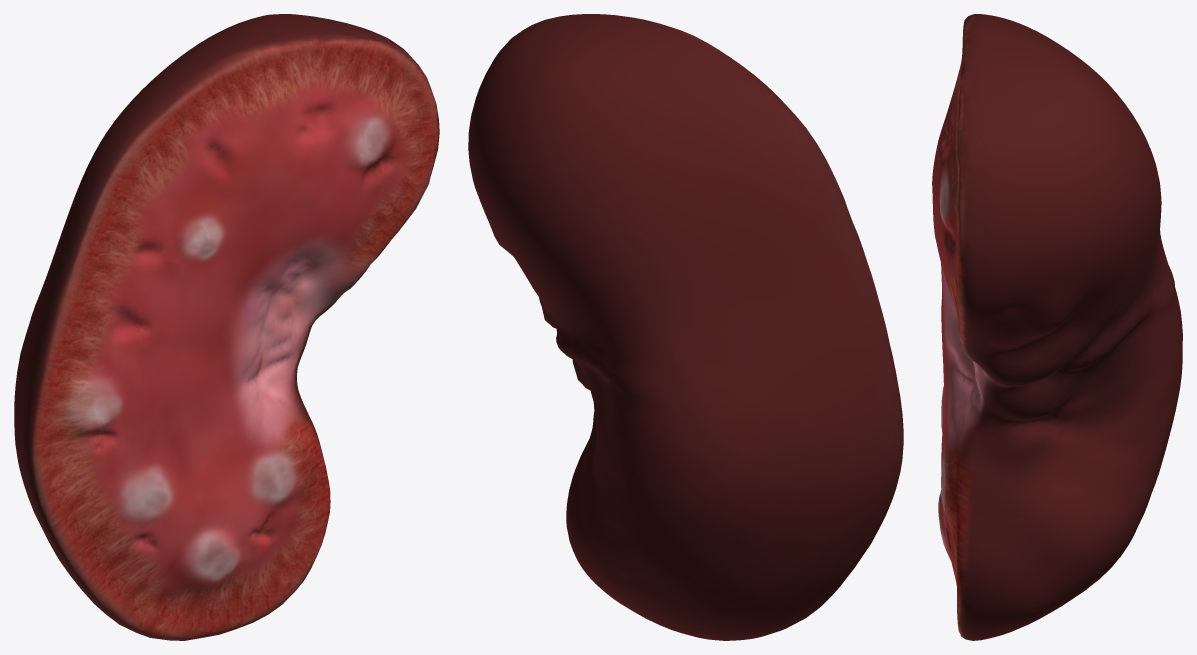
File: 9_mass.glb
The picture shows the model from 3 angles, left to right: view 1: azimuth 30°, elevation 25°; view 2: azimuth 150°, elevation 25°; view 3: azimuth 270°, elevation 25°; orthographic projection. The views are drawn at different scales.
Parts seen in each view (by area): view 1: mass; view 2: mass; view 3: mass.
Boxes of the visible parts, bbox=[...] form: mass: bbox=[14, 14, 439, 640]; mass: bbox=[468, 14, 903, 640]; mass: bbox=[932, 14, 1182, 640].
Size of the model in its own units: 0.3783 by 0.5129 by 0.1886.
1 material, 1 textured.
